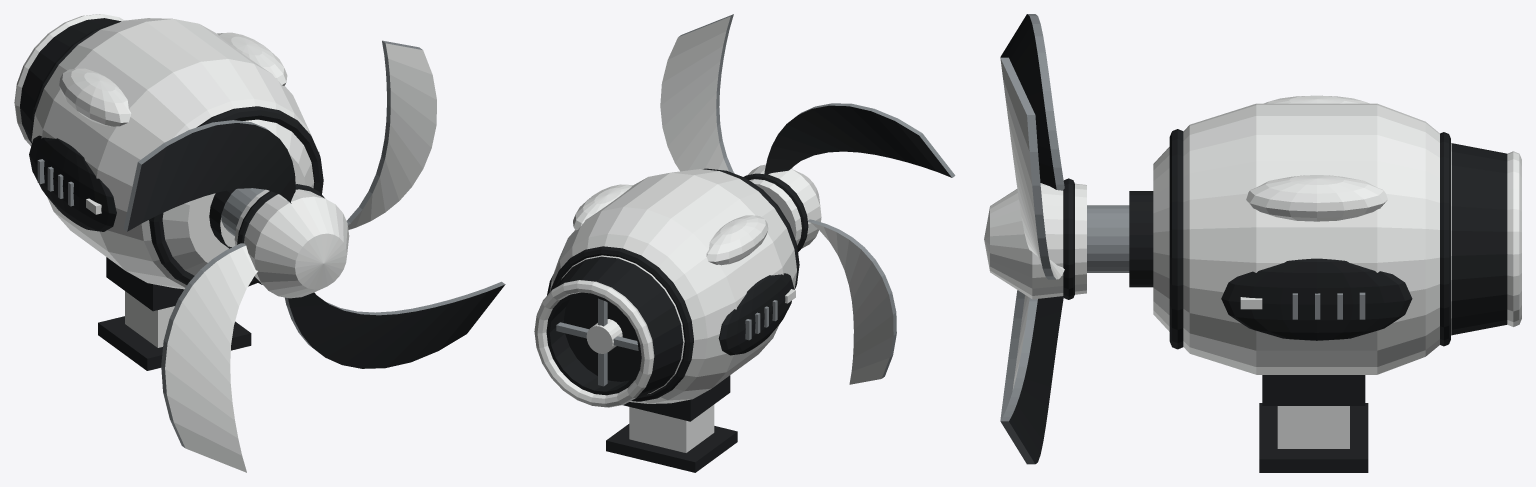
The model's file is turbine_complete.obj.
3 views of the same model, side by side, from view 1: azimuth 30°, elevation 25°; view 2: azimuth 150°, elevation 25°; view 3: azimuth 270°, elevation 25° (orthographic). The views are drawn at different scales.
Size of the model in its own units: 0.7982 by 0.7982 by 0.889.
